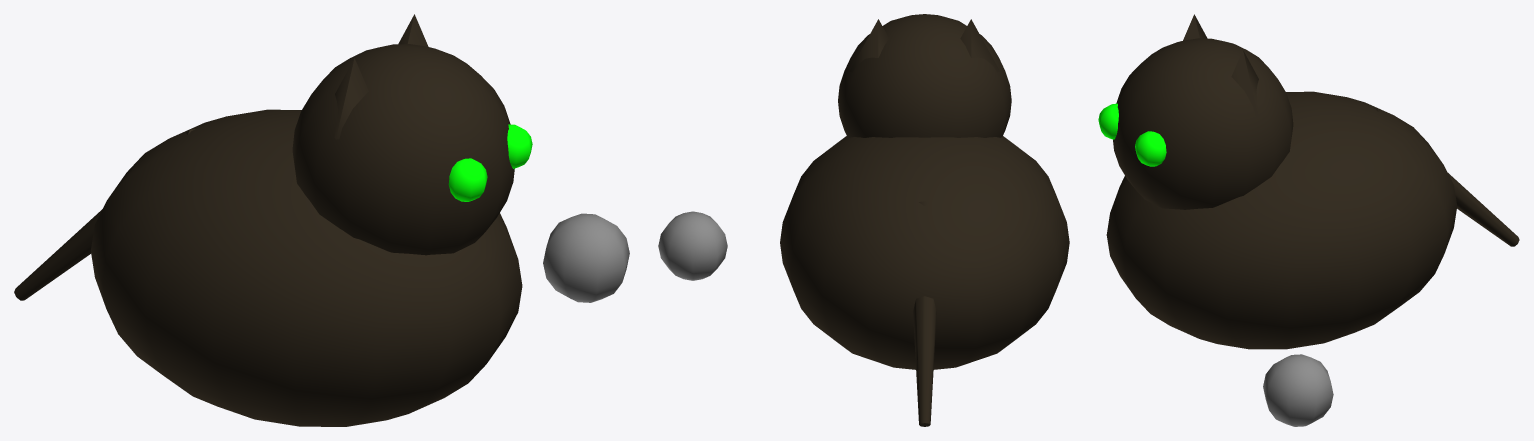
File: cat.glb
The picture shows the model from 3 angles, left to right: view 1: azimuth 30°, elevation 25°; view 2: azimuth 150°, elevation 25°; view 3: azimuth 270°, elevation 25°; orthographic projection. The views are drawn at different scales.
Size of the model in its own units: 0.7635 by 0.57 by 0.6916.
